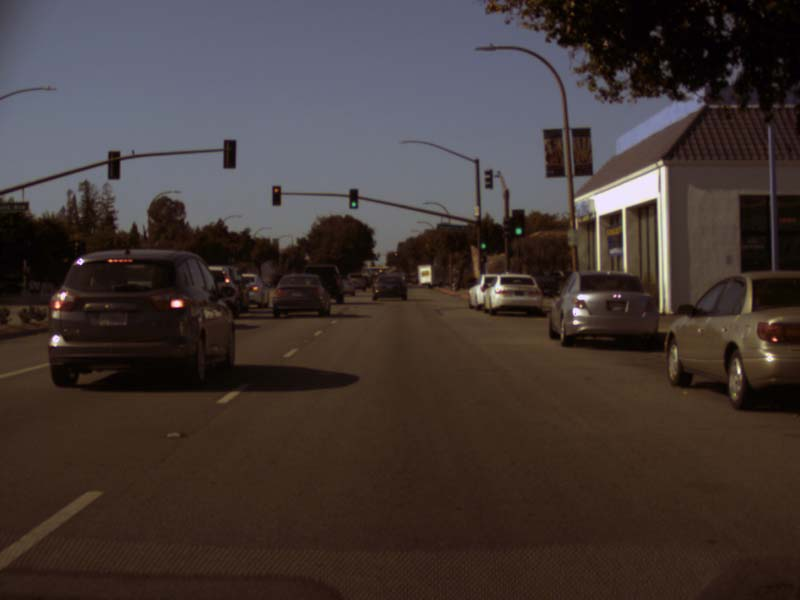Green: (512, 209, 525, 237), (349, 188, 358, 209), (479, 228, 487, 250)
Red: (271, 185, 280, 206)
